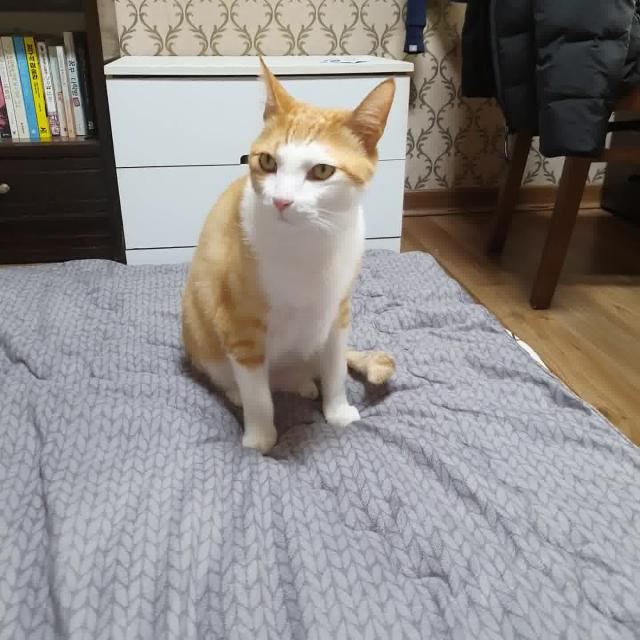cat: (172, 48, 406, 454)
